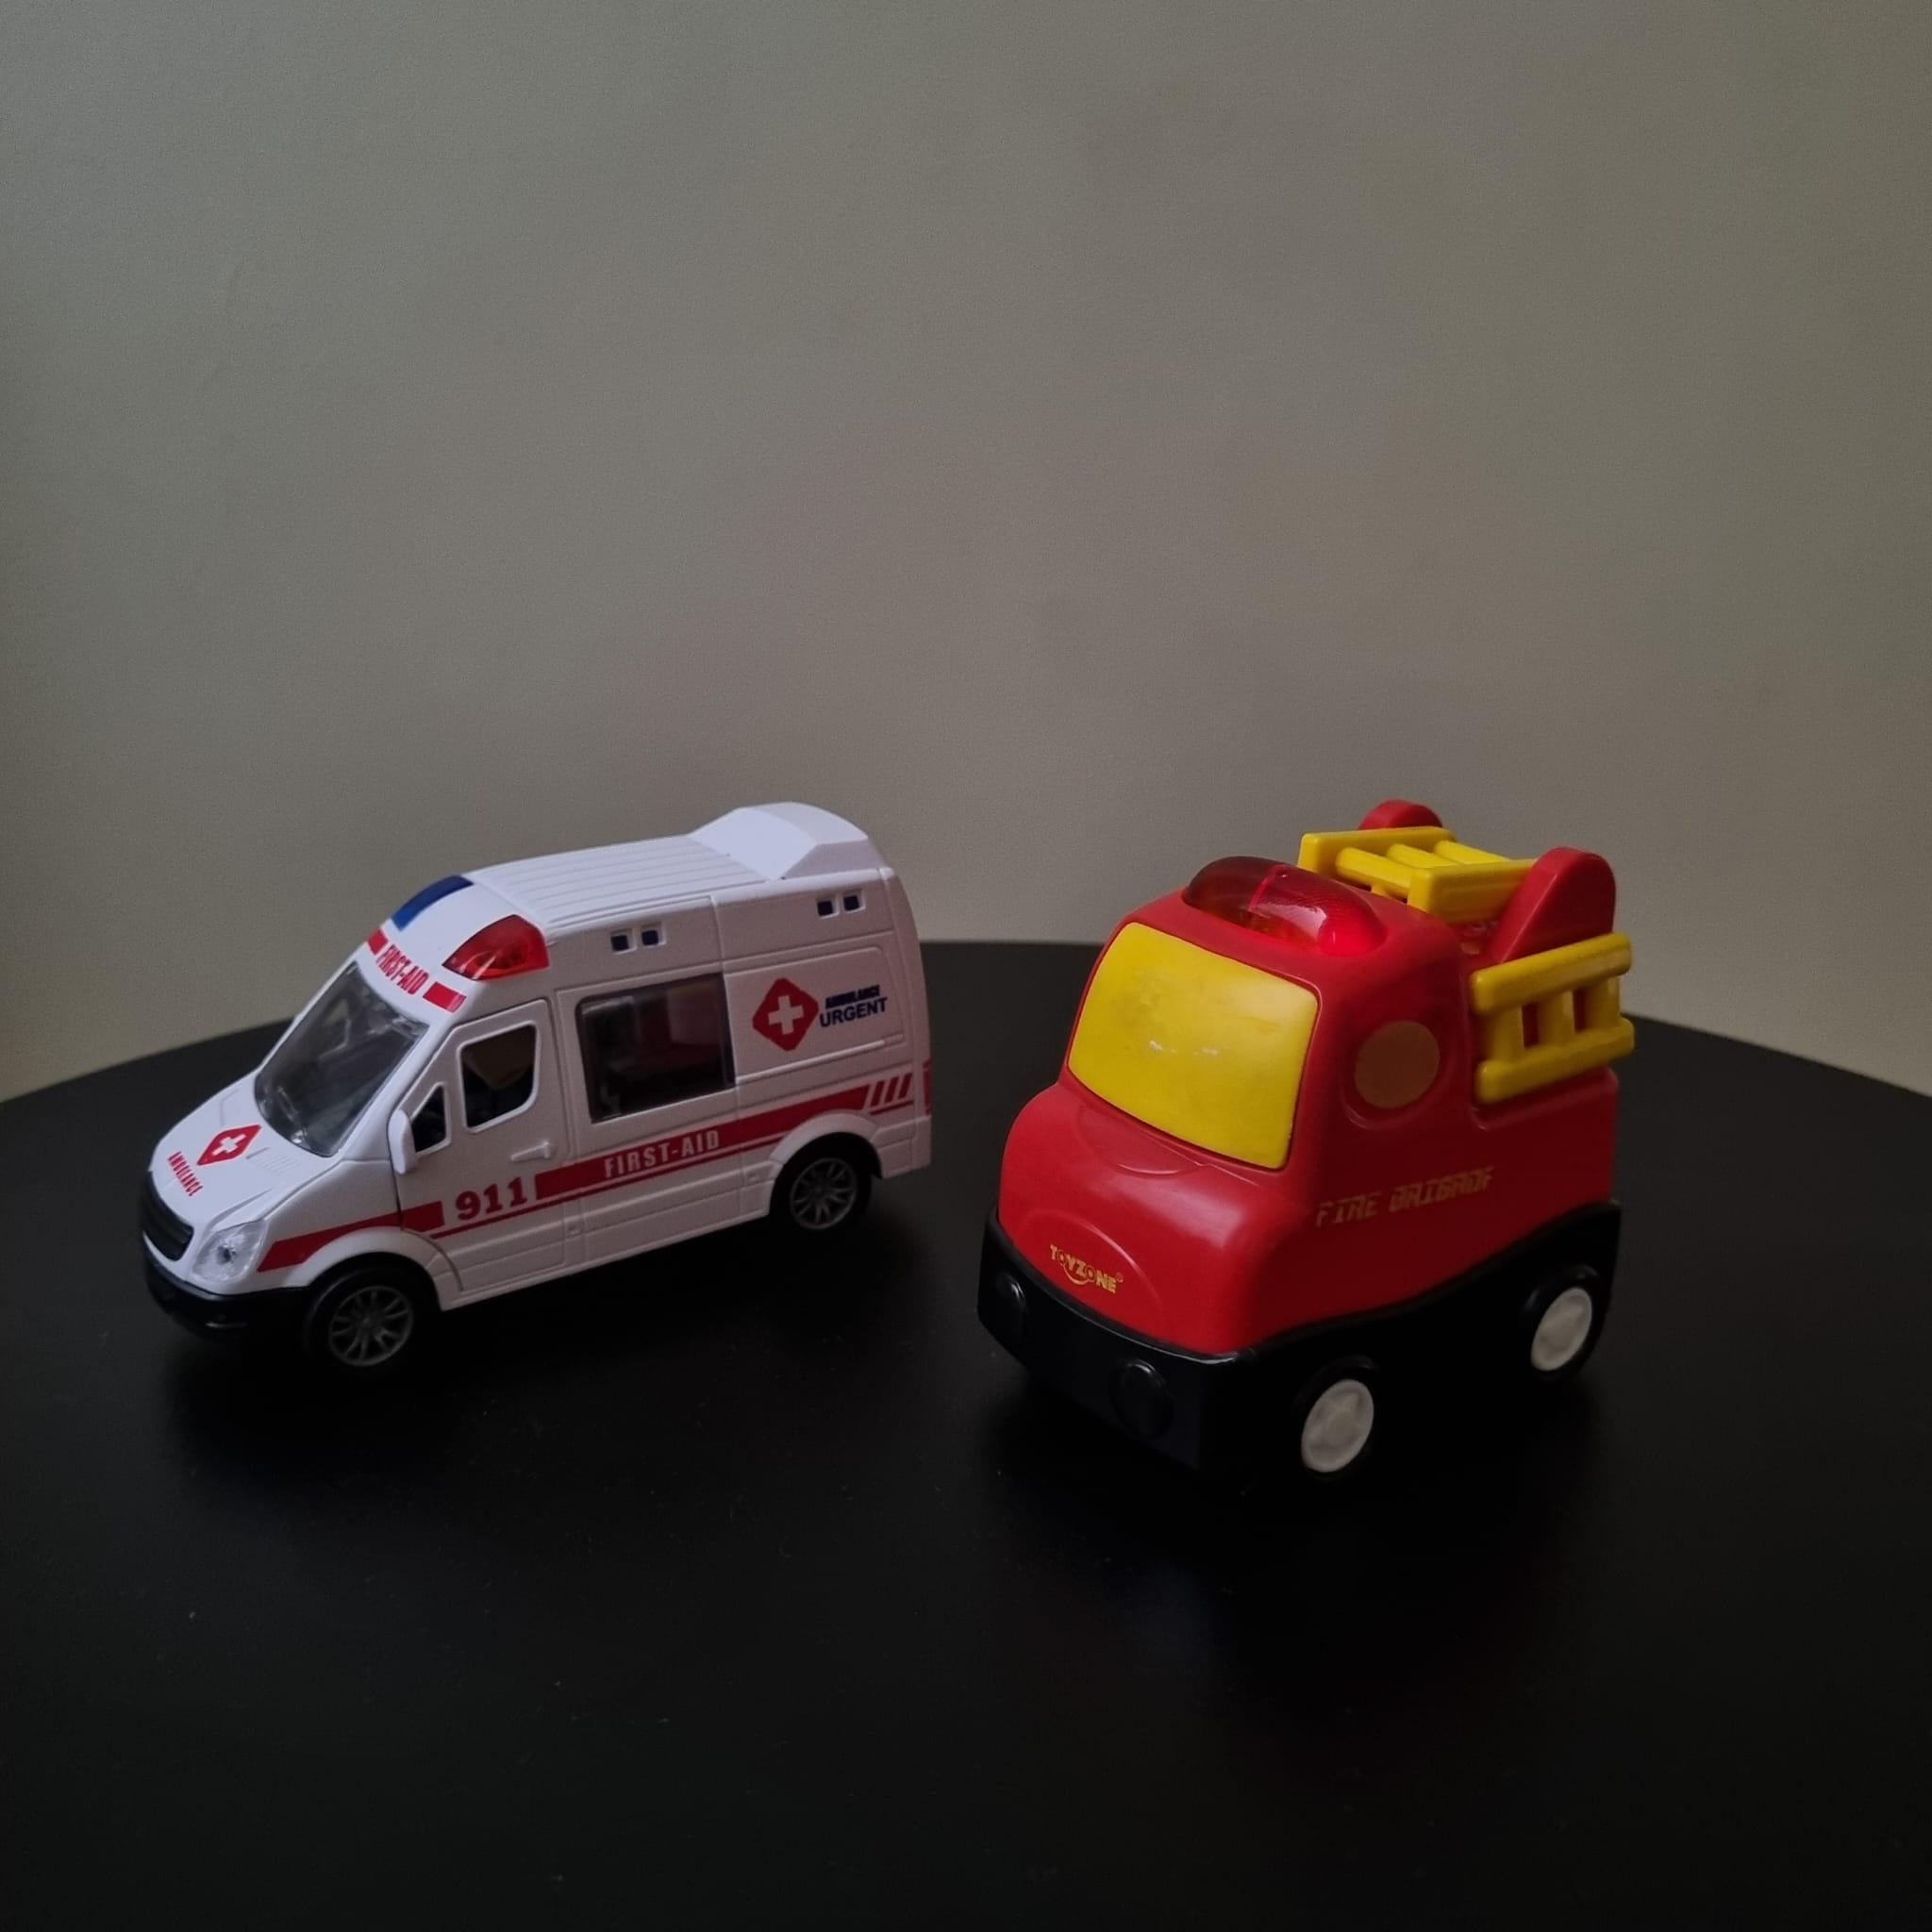ambulance_off: (147, 803, 943, 1387)
firetruck_on: (977, 784, 1626, 1481)
